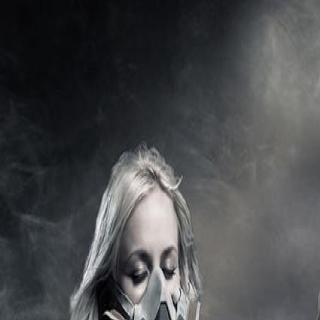smoke: (1, 184, 109, 320), (261, 5, 320, 236), (235, 274, 310, 320)
